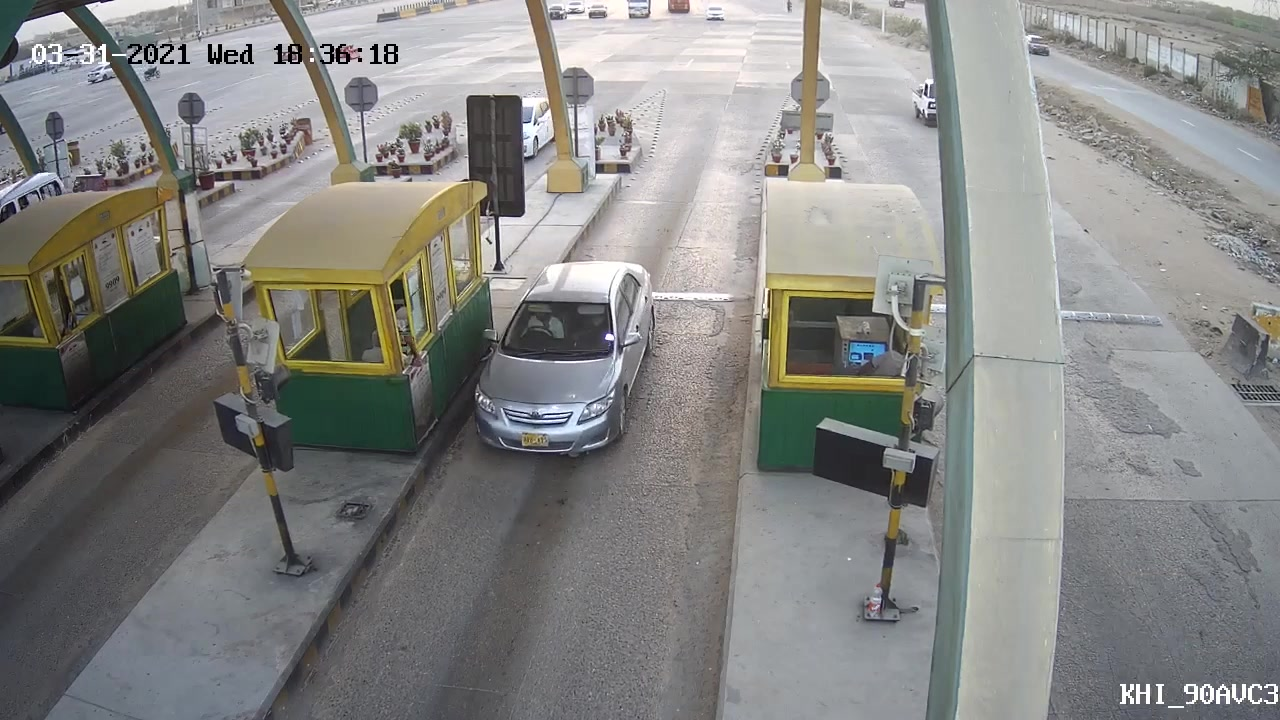F1: (465, 249, 664, 474)
